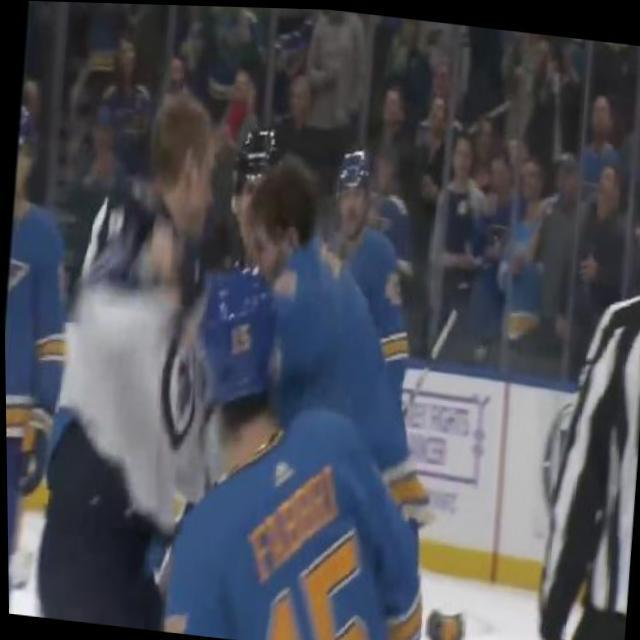fight: (50, 88, 433, 507)
